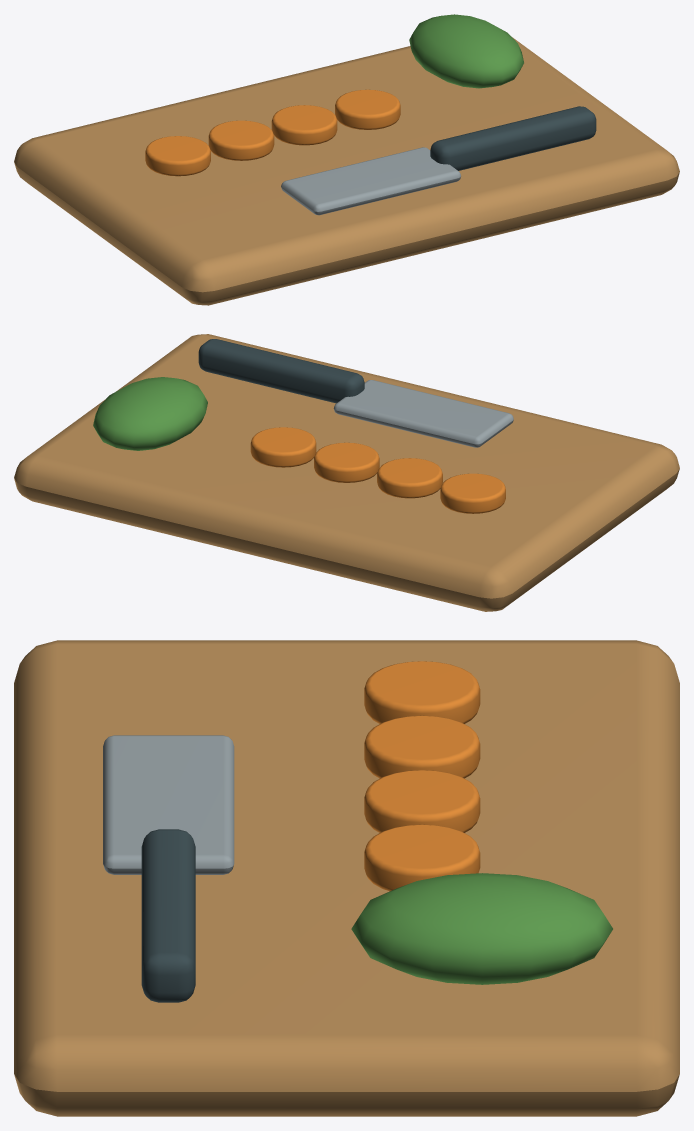
File: HotelTogether-PrepBoardSet.glb
The picture shows the model from 3 angles, top to bottom: view 1: azimuth 30°, elevation 25°; view 2: azimuth 150°, elevation 25°; view 3: azimuth 270°, elevation 25°; orthographic projection. The views are drawn at different scales.
Visible parts, largest first — view 1: Board_Slab, Knife_Blade, Board_Leaf, Knife_Handle, Board_CarrotSlice.001, Board_CarrotSlice.002, Board_CarrotSlice.003, Board_CarrotSlice; view 2: Board_Slab, Knife_Blade, Board_Leaf, Knife_Handle, Board_CarrotSlice.003, Board_CarrotSlice, Board_CarrotSlice.001, Board_CarrotSlice.002; view 3: Board_Slab, Board_Leaf, Knife_Blade, Knife_Handle, Board_CarrotSlice.001, Board_CarrotSlice.002, Board_CarrotSlice, Board_CarrotSlice.003.
Boxes of the visible parts, x1,y1,x2,y2 form: Board_Slab: (14, 37, 679, 305); Knife_Blade: (281, 147, 460, 215); Board_Leaf: (409, 14, 523, 88); Knife_Handle: (430, 106, 596, 170); Board_CarrotSlice.001: (208, 120, 274, 160); Board_CarrotSlice.002: (271, 105, 337, 145); Board_CarrotSlice.003: (335, 89, 400, 129); Board_CarrotSlice: (145, 136, 210, 176); Board_Slab: (14, 334, 679, 611); Knife_Blade: (333, 380, 513, 447); Board_Leaf: (93, 377, 207, 450); Knife_Handle: (198, 339, 364, 403); Board_CarrotSlice.003: (250, 427, 316, 467); Board_CarrotSlice: (440, 473, 505, 513); Board_CarrotSlice.001: (377, 458, 442, 498); Board_CarrotSlice.002: (314, 442, 379, 482); Board_Slab: (14, 640, 679, 1116); Board_Leaf: (351, 873, 612, 984); Knife_Blade: (103, 735, 234, 874); Knife_Handle: (141, 829, 195, 1002); Board_CarrotSlice.001: (364, 715, 480, 778); Board_CarrotSlice.002: (364, 770, 480, 832); Board_CarrotSlice: (364, 661, 480, 723); Board_CarrotSlice.003: (364, 824, 480, 891).
Size of the model in its own units: 0.47 by 0.085 by 0.31.
